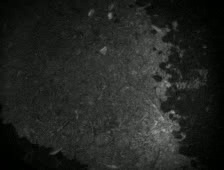corn: (96, 44, 110, 57), (86, 6, 96, 19), (105, 1, 116, 11), (106, 10, 115, 22)
